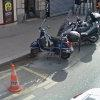Motorcycle: (31, 17, 99, 58)
